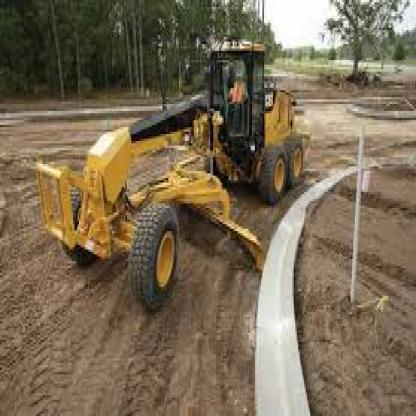bull_dozer/loader/grader: (30, 23, 313, 324)
